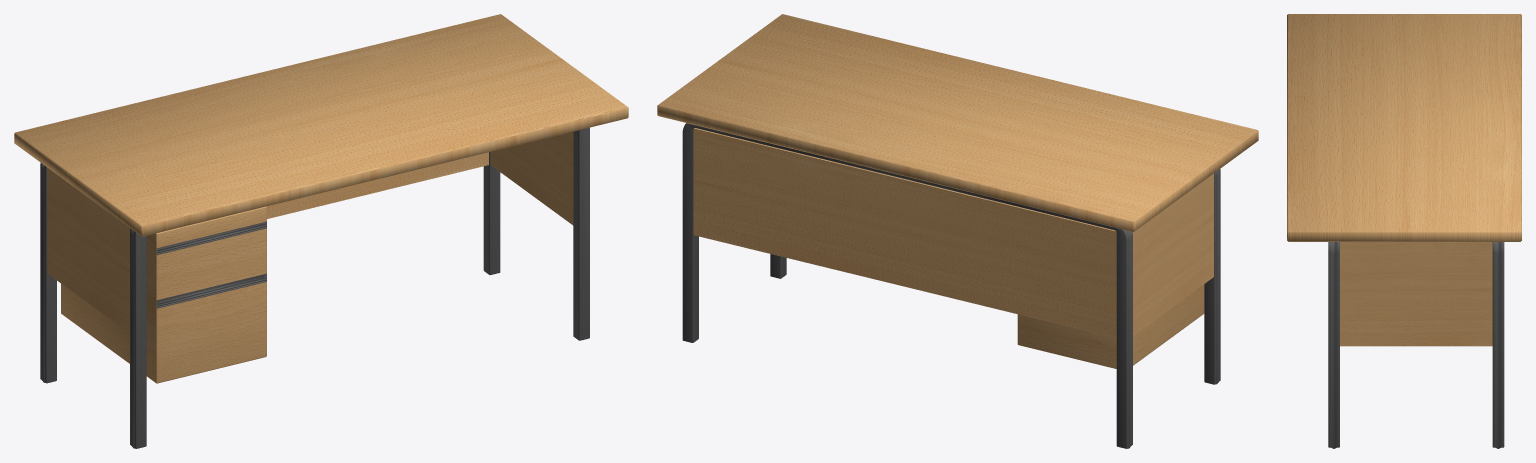
Rendered from teacher_desk.glb.
3 renders of one model, left to right at view 1: azimuth 30°, elevation 25°; view 2: azimuth 150°, elevation 25°; view 3: azimuth 270°, elevation 25°, orthographic. The views are drawn at different scales.
Parts seen in each view (by area): view 1: surface, drawers, left_board, front_legs, back_legs, right_board, back_board; view 2: surface, back_board, left_board, back_legs, drawers, front_legs; view 3: surface, right_board, back_legs, front_legs.
Boxes of the visible parts, x1=… form: surface: x1=14, y1=14, x2=628, y2=236; drawers: x1=61, y1=206, x2=266, y2=383; left_board: x1=47, y1=168, x2=130, y2=333; front_legs: x1=130, y1=127, x2=589, y2=448; back_legs: x1=40, y1=152, x2=500, y2=383; right_board: x1=490, y1=131, x2=573, y2=225; back_board: x1=266, y1=152, x2=488, y2=218; surface: x1=657, y1=14, x2=1258, y2=231; back_board: x1=693, y1=128, x2=1116, y2=338; left_board: x1=1132, y1=173, x2=1213, y2=335; back_legs: x1=682, y1=123, x2=1132, y2=448; drawers: x1=1017, y1=284, x2=1204, y2=368; front_legs: x1=770, y1=169, x2=1220, y2=384; surface: x1=1287, y1=14, x2=1521, y2=241; right_board: x1=1340, y1=242, x2=1492, y2=346; back_legs: x1=1492, y1=242, x2=1504, y2=448; front_legs: x1=1328, y1=242, x2=1339, y2=448.
Size of the model in its own units: 4.4 by 2.12 by 2.
2 materials, 1 textured.
